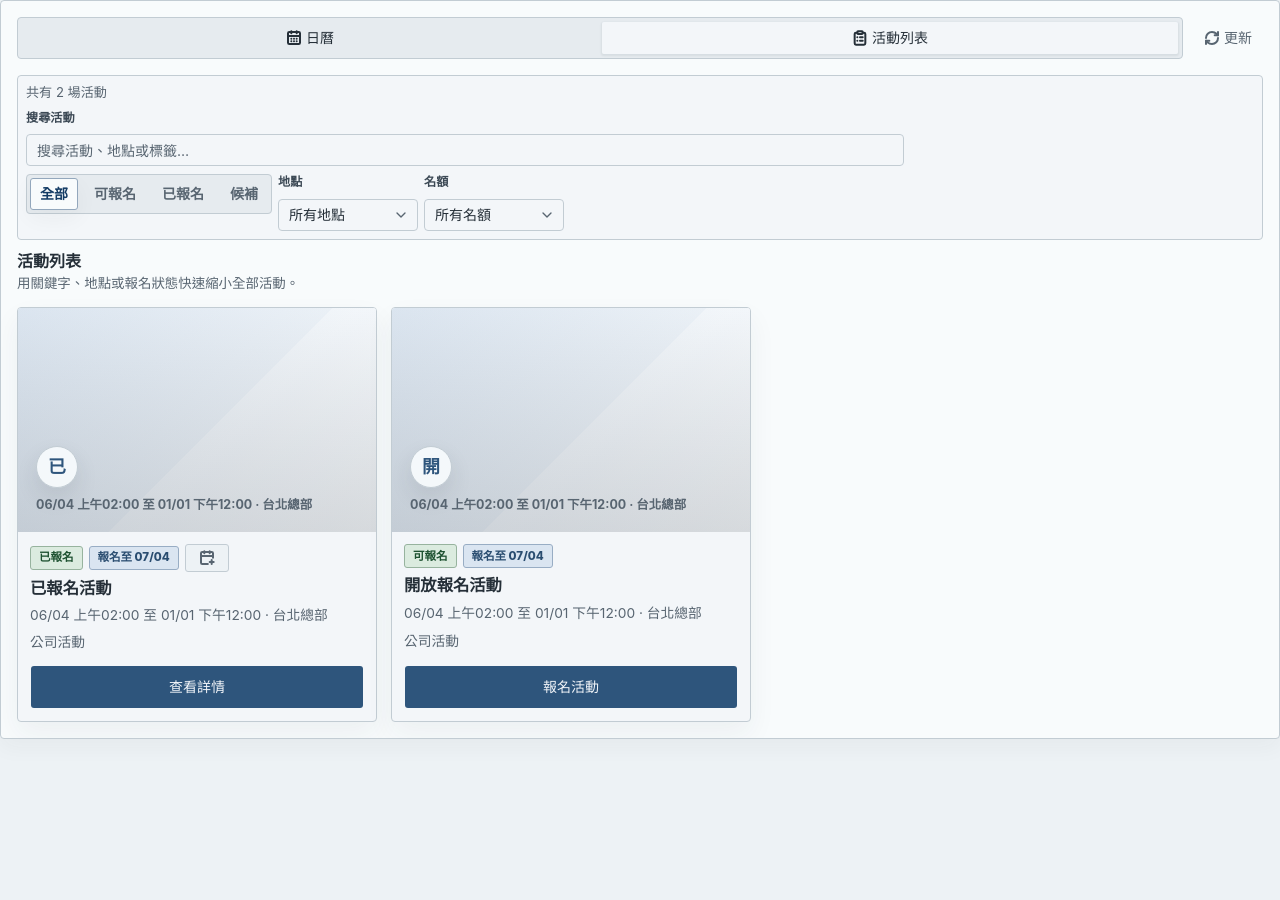
it: EmployeeEventsPage discovery controls › filters registered events with a status chip while preserving date state
Expected: the heading "開放報名活動" is shown, x1=404 y1=575 x2=502 y2=595
Click the button "已報名" at (183, 194), box x1=152 y1=178 x2=214 y2=210
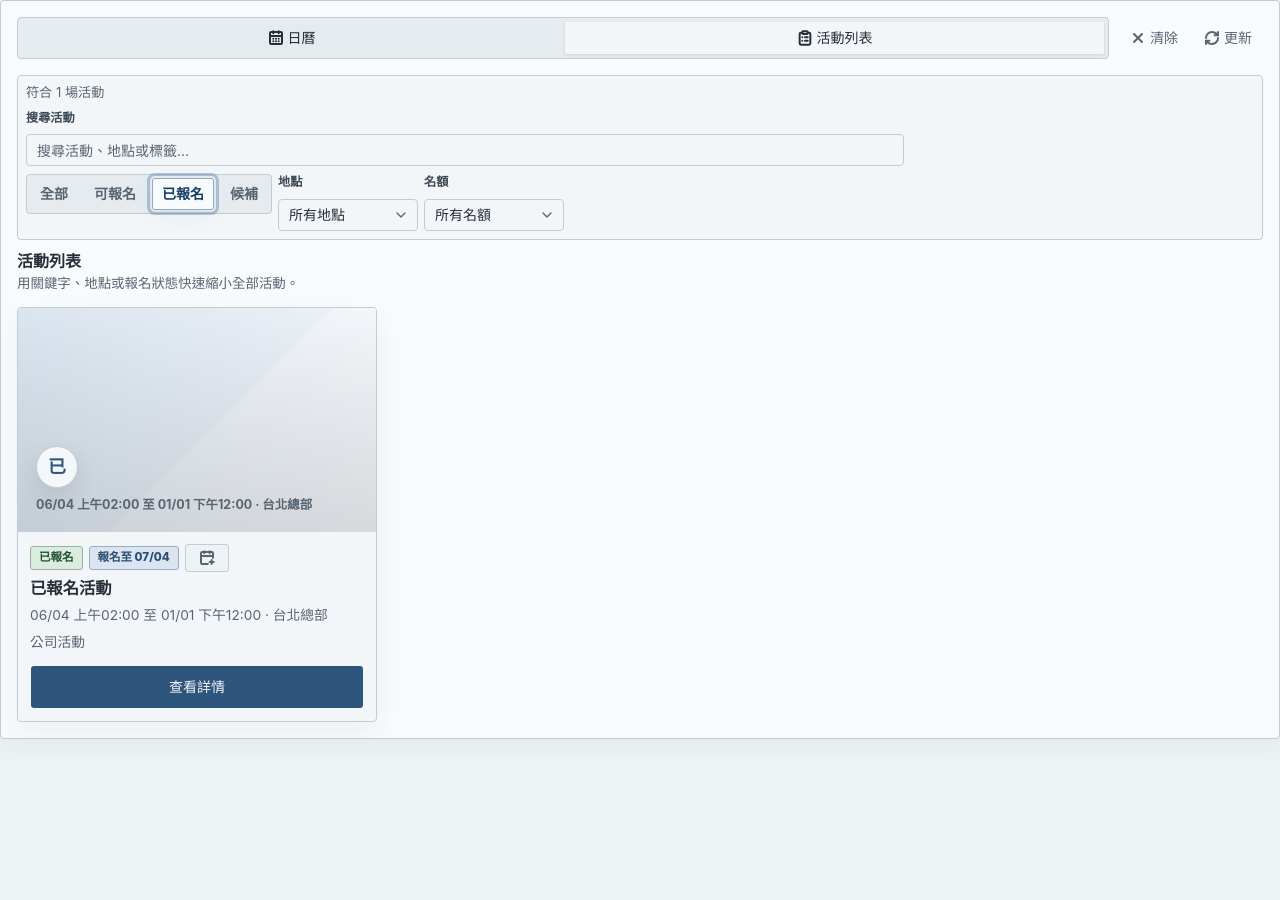
Expected: the heading "已報名活動" is shown, x1=30 y1=578 x2=112 y2=598
Now the heading "開放報名活動" is gone
